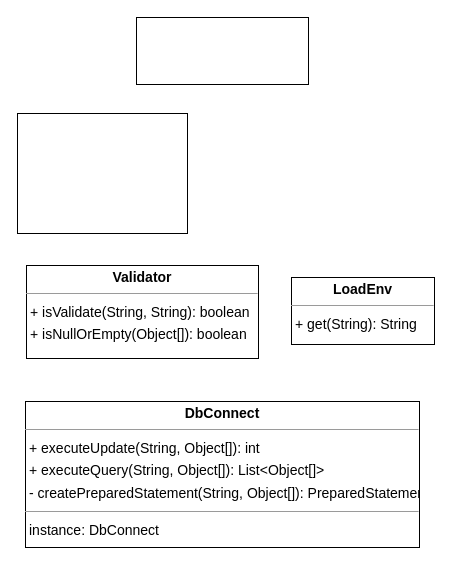
Image size: 452x565. Some labels were removed from this diagram. The centre of each missing label's shape, as x and y in pixels:
TableHelper tableReadOnly: JTable: point 222,50
UserContext + clear(): void instance: UserContext username: String: point 102,173
